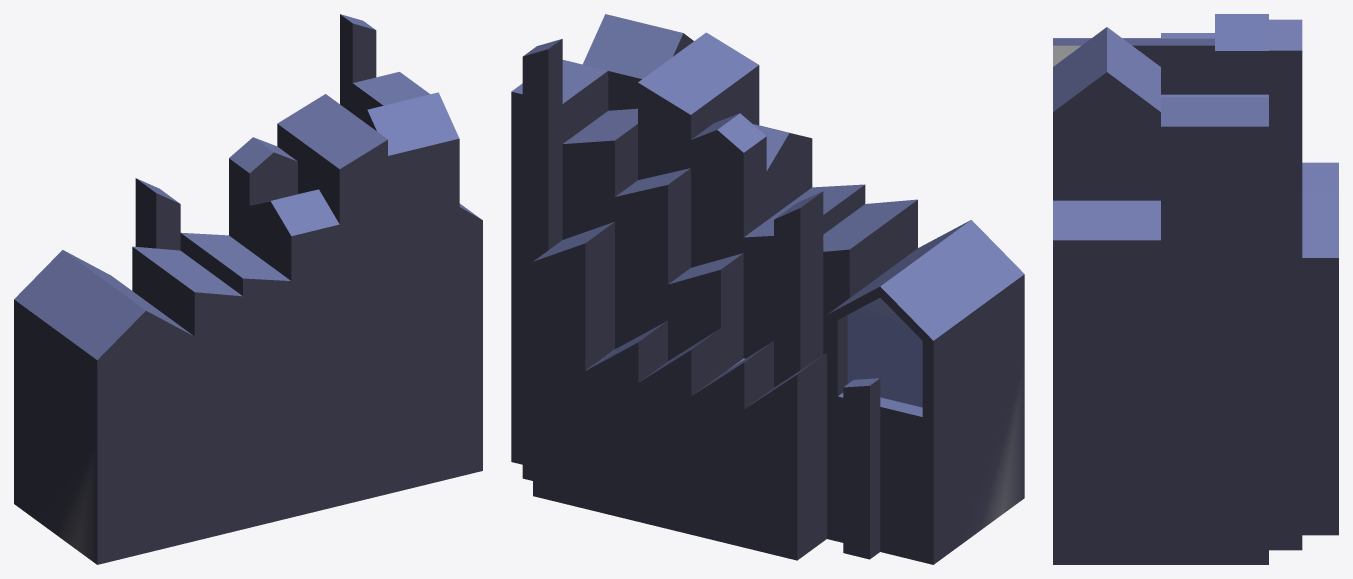
The model's file is charcoal_factory.glb.
The picture shows the model from 3 angles, left to right: view 1: azimuth 30°, elevation 25°; view 2: azimuth 150°, elevation 25°; view 3: azimuth 270°, elevation 25°; orthographic projection. The views are drawn at different scales.
Parts seen in each view (by area): view 1: Cube.002; view 2: Cube.002; view 3: Cube.002.
Part boxes in pixels (box(x1,y1,x2,y2)): Cube.002: box(14, 14, 482, 564); Cube.002: box(511, 14, 1024, 564); Cube.002: box(1053, 14, 1338, 564).
Size of the model in its own units: 3.23 by 3.19 by 1.6.
